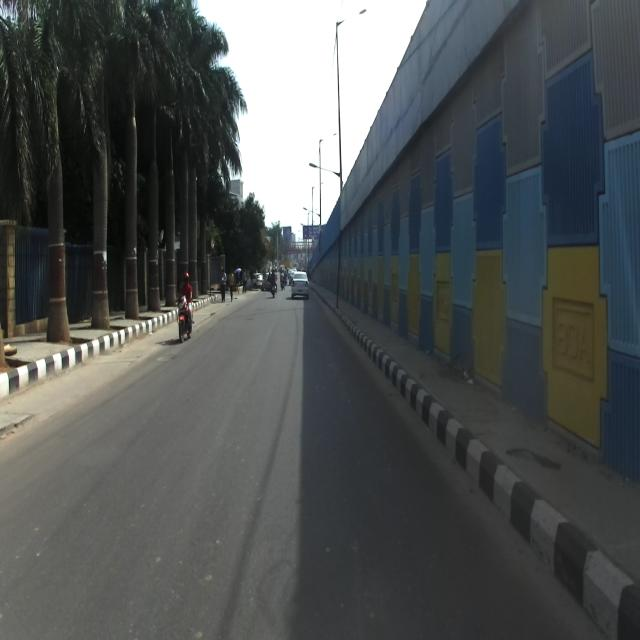car ahead at: (290, 266, 308, 304)
motorcycle ahead at: (176, 267, 196, 343)
tree ahead at: (35, 60, 81, 352), (86, 82, 114, 327), (122, 78, 142, 322)
